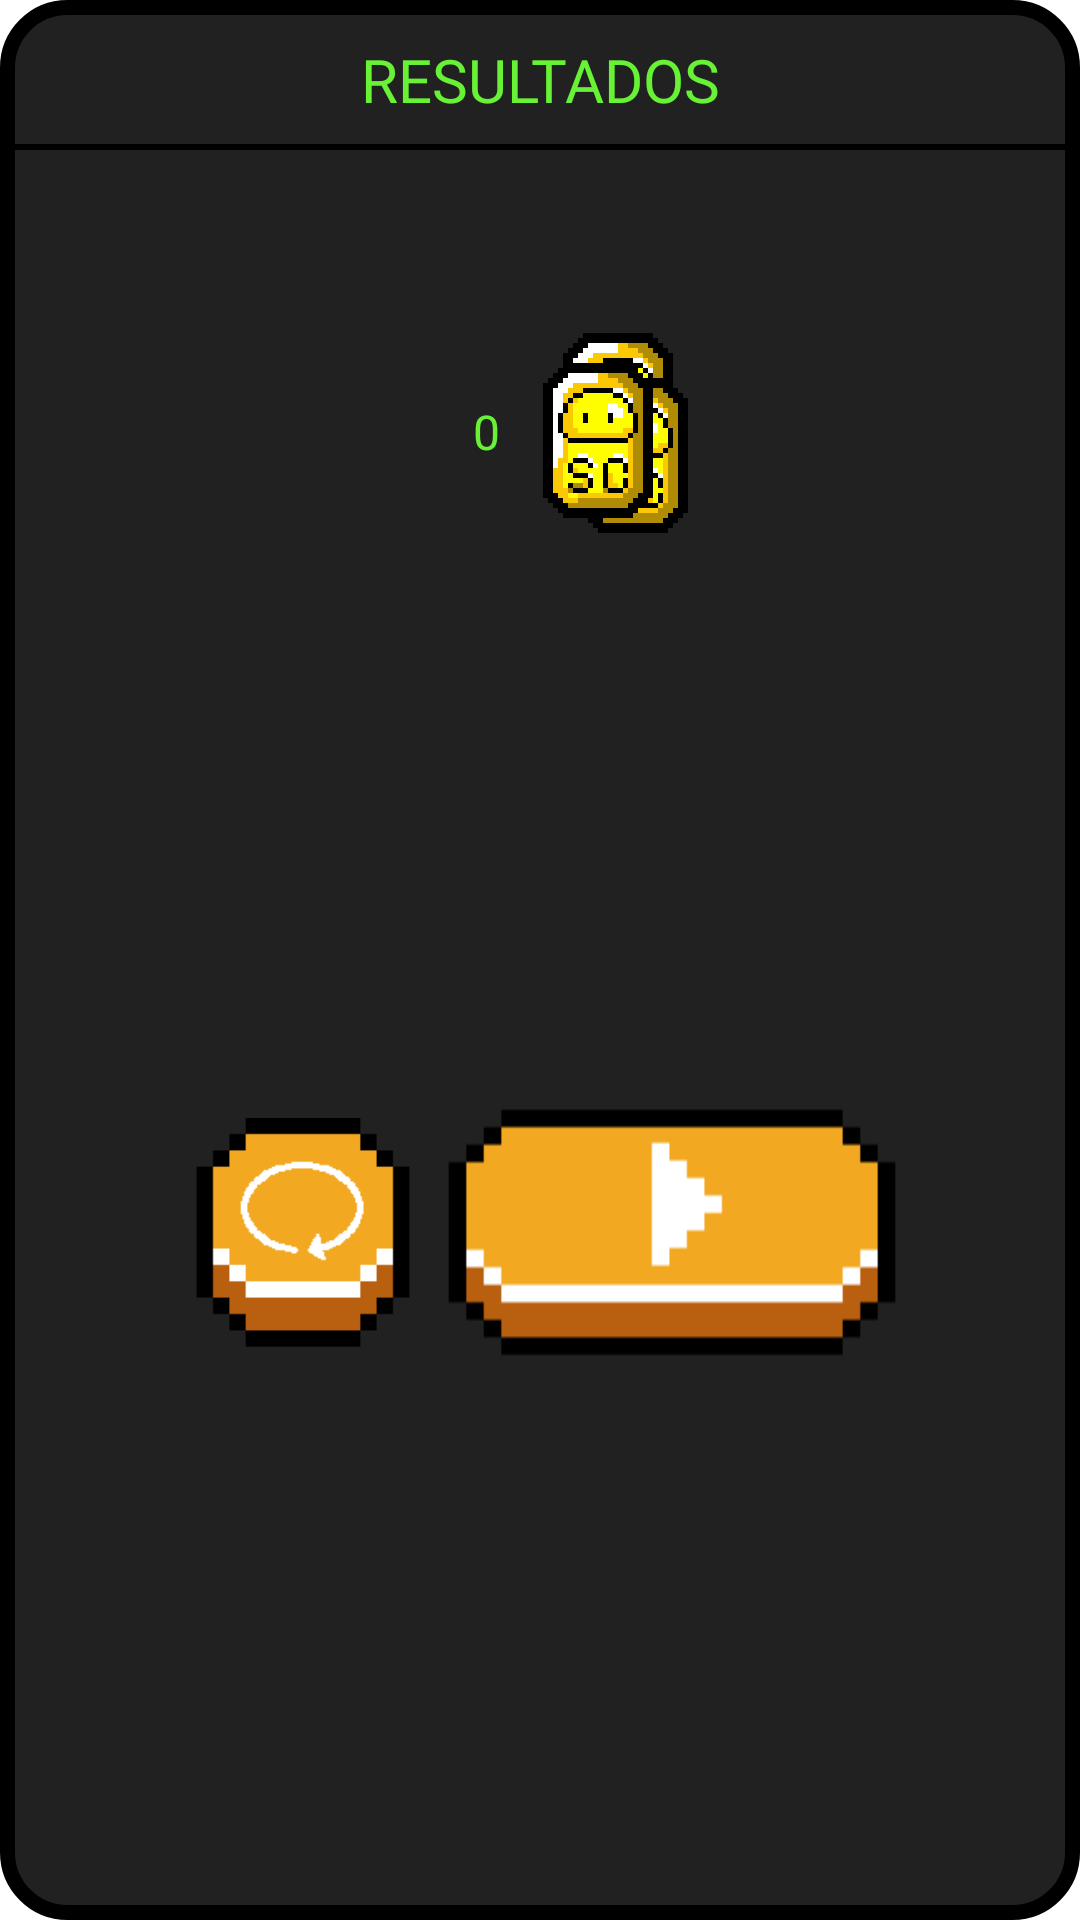

Screen size 1080px x 1920px. Icon name, then its center in pixels as point (x, y):
coins: point (615, 433)
restart: point (303, 1232)
